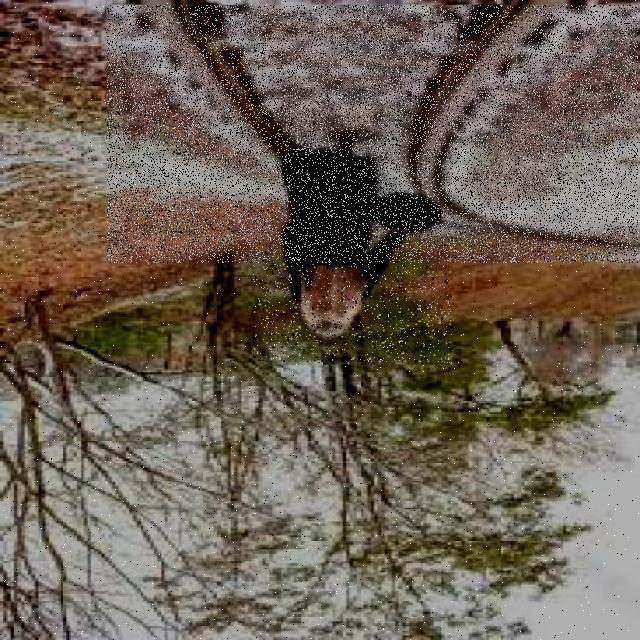rail: (109, 7, 639, 264)
